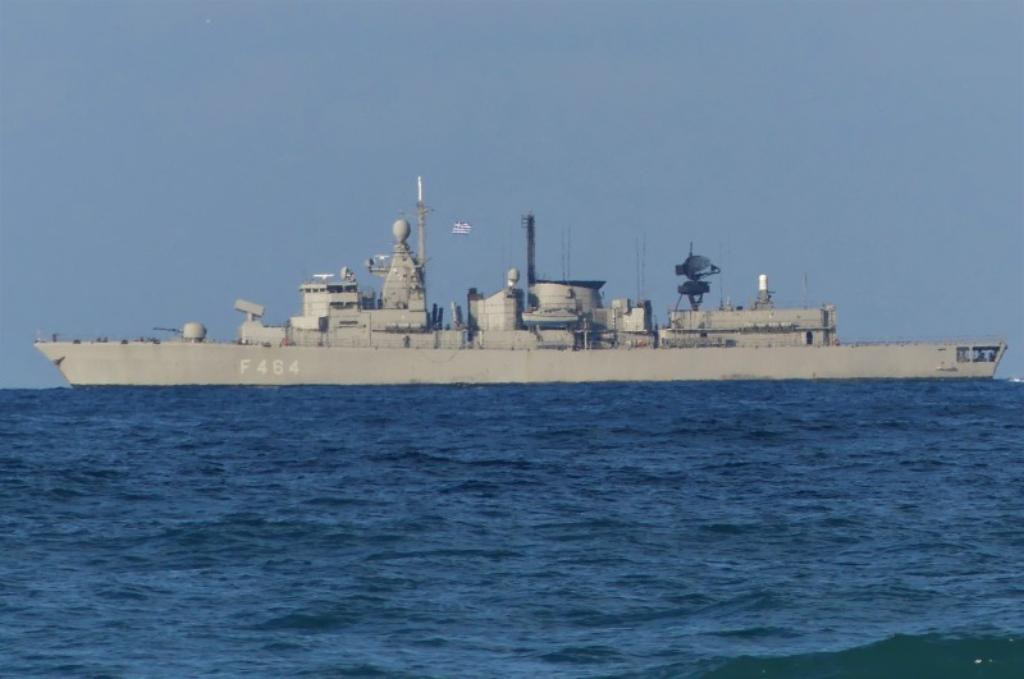Warship: (28, 176, 1004, 382)
